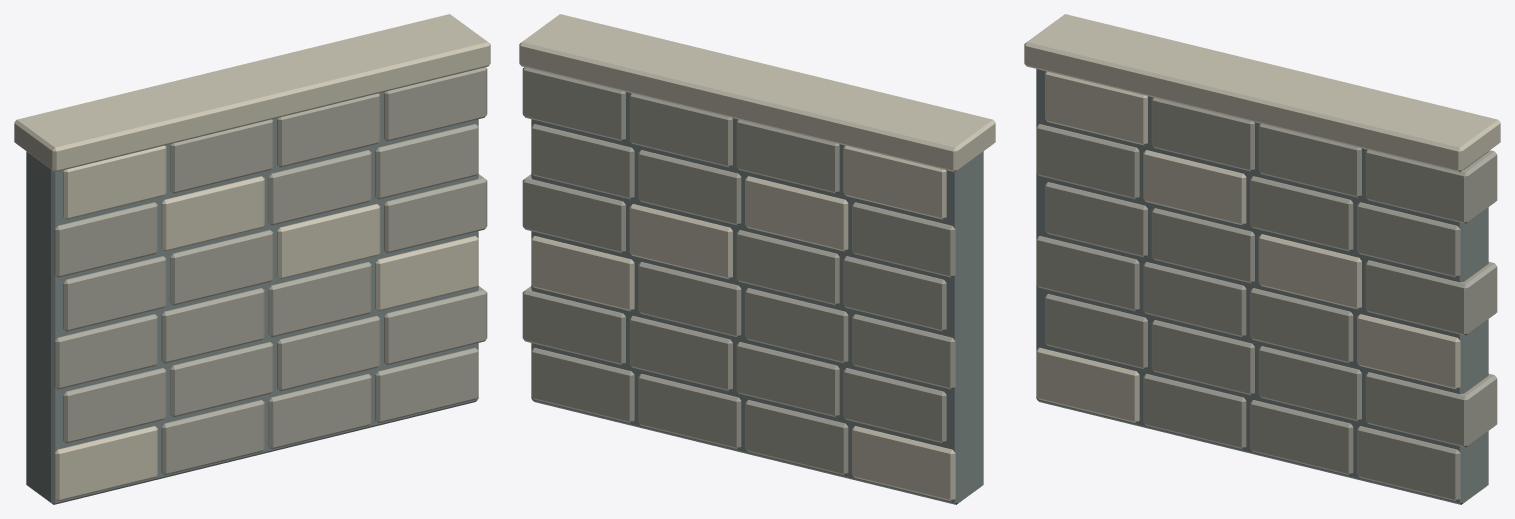
File: wall.glb
3 renders of one model, left to right at view 1: azimuth 30°, elevation 25°; view 2: azimuth 150°, elevation 25°; view 3: azimuth 330°, elevation 25°, orthographic.
Visible parts, largest first — view 1: TV_wall; view 2: TV_wall; view 3: TV_wall.
Part boxes in pixels (x1,y1,x2,y2): TV_wall: (14, 14, 490, 504); TV_wall: (519, 14, 995, 504); TV_wall: (1024, 14, 1500, 504).
Size of the model in its own units: 4.11 by 3.25 by 0.67.
